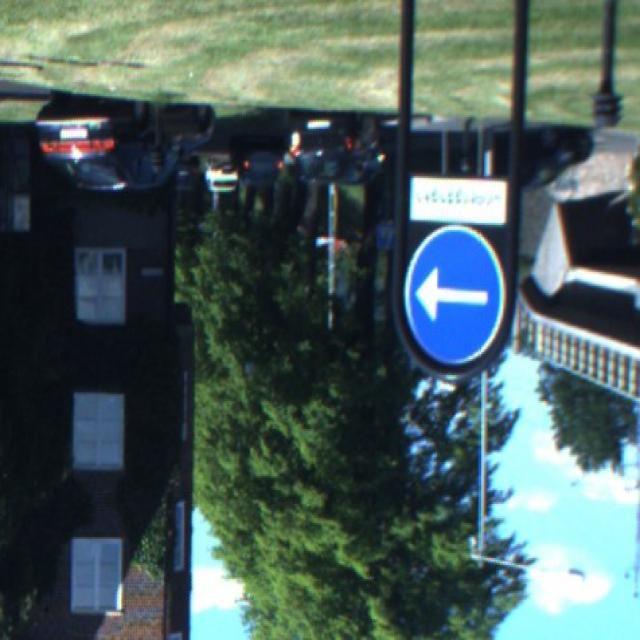Turn Left: (406, 228, 511, 374)
